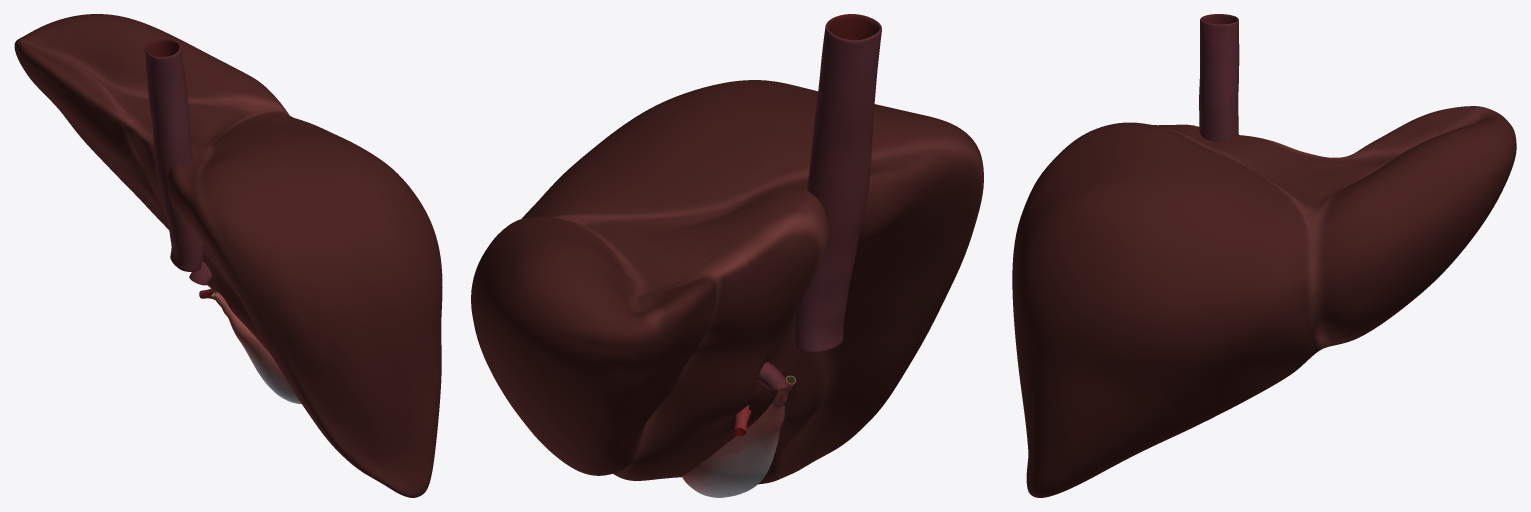
The model's file is liver.glb.
3 views of the same model, side by side, from view 1: azimuth 30°, elevation 25°; view 2: azimuth 150°, elevation 25°; view 3: azimuth 270°, elevation 25° (orthographic). The views are drawn at different scales.
Parts seen in each view (by area): view 1: liver.001, inferior vena cava.001, gallbladder.002; view 2: liver.001, inferior vena cava.001, gallbladder.002, portal vein.001; view 3: liver.001, inferior vena cava.001.
Boxes of the visible parts, <box> form: liver.001: <box>14,14,442,497</box>; inferior vena cava.001: <box>144,39,203,271</box>; gallbladder.002: <box>211,291,301,403</box>; liver.001: <box>471,80,983,484</box>; inferior vena cava.001: <box>793,14,881,352</box>; gallbladder.002: <box>682,375,795,497</box>; portal vein.001: <box>757,362,788,390</box>; liver.001: <box>1012,106,1516,497</box>; inferior vena cava.001: <box>1199,14,1239,141</box>.
Size of the model in its own units: 0.1362 by 0.2222 by 0.2515.
5 materials, 5 textured.
